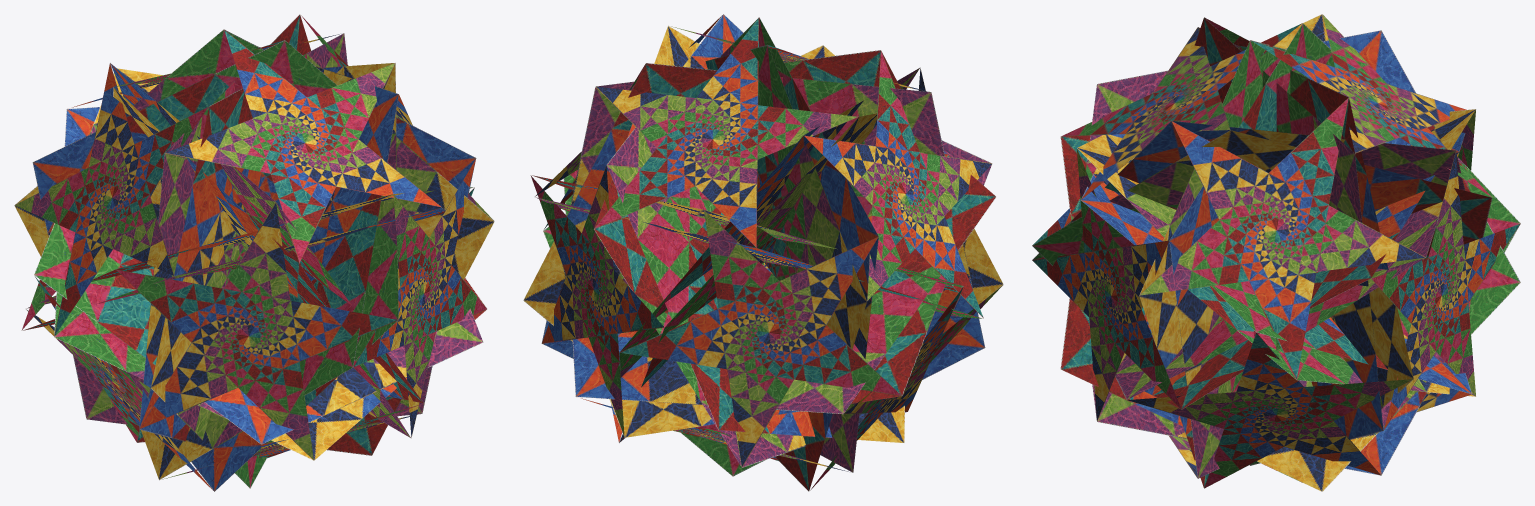
The model's file is InvertedSnubDodecadodecahedron6.obj.
3 views of the same model, side by side, from view 1: azimuth 30°, elevation 25°; view 2: azimuth 150°, elevation 25°; view 3: azimuth 270°, elevation 25° (orthographic).
Bounding box in the file's own units: 1.69 × 1.69 × 1.69.
Materials: 1 (1 with a texture image).
